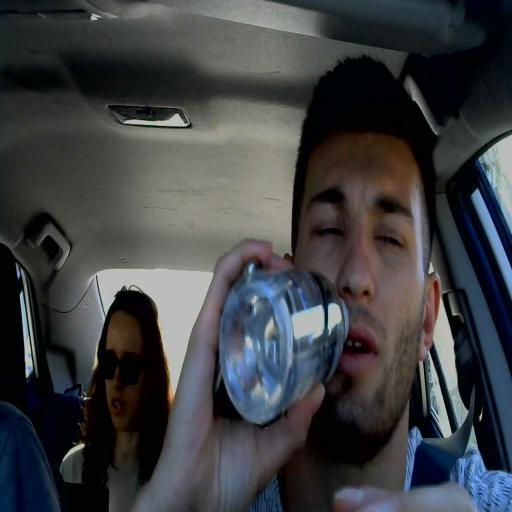Drinking: (203, 132, 438, 460)
